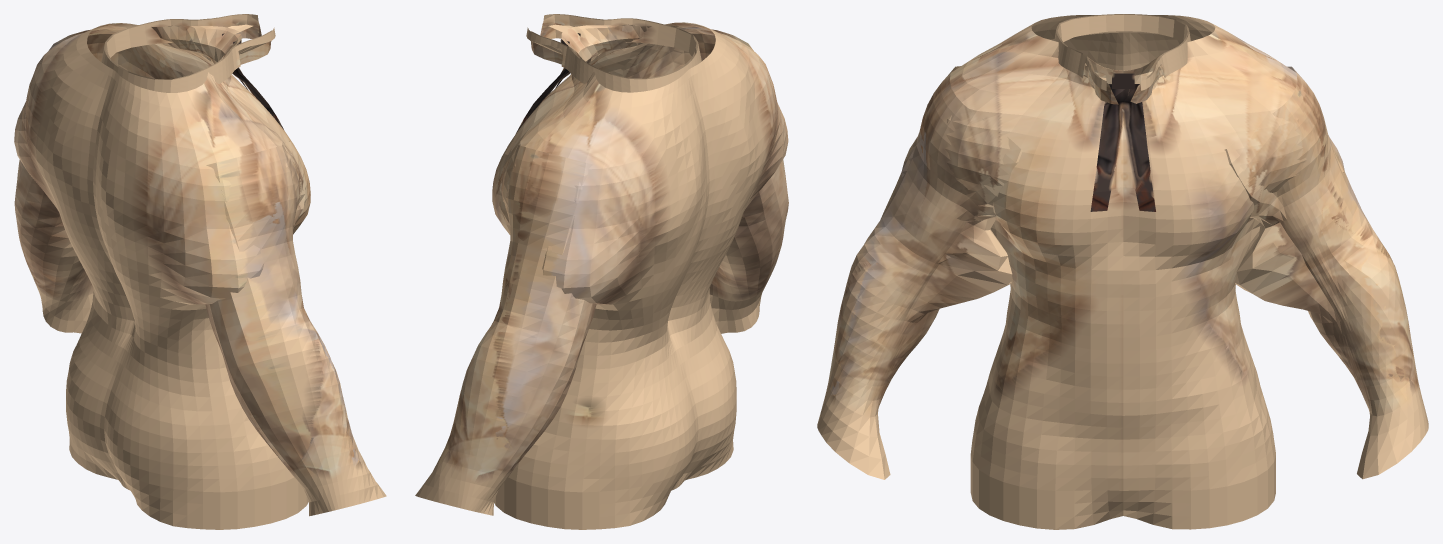
Rendered from bold_cowboy_made_shirt.glb.
3 renders of one model, left to right at view 1: azimuth 30°, elevation 25°; view 2: azimuth 150°, elevation 25°; view 3: azimuth 270°, elevation 25°, orthographic. The views are drawn at different scales.
Visible parts, largest first — view 1: shirt; view 2: shirt; view 3: shirt.
Part boxes in pixels (left/top/right/bottom): shirt: left=14, top=14, right=386, bottom=529; shirt: left=415, top=14, right=788, bottom=529; shirt: left=817, top=14, right=1428, bottom=529.
Bounding box in the file's own units: 0.1867 × 0.3892 × 0.4831.
Materials: 1 (1 with a texture image).
